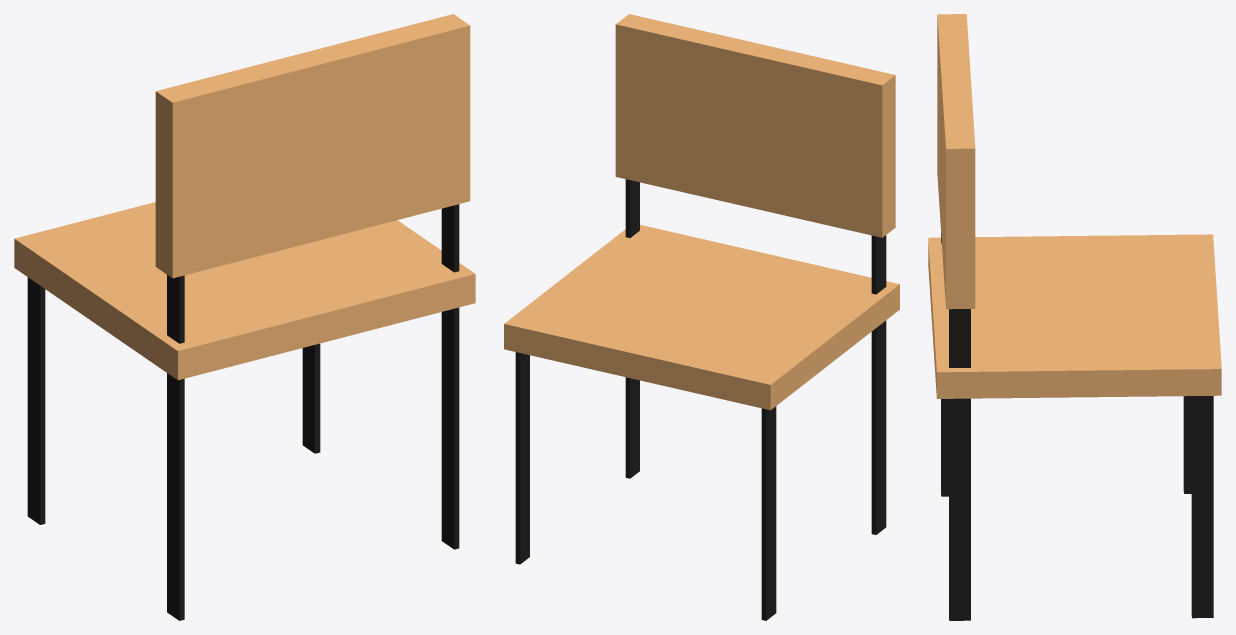
Rendered from chair.glb.
3 views of the same model, side by side, from view 1: azimuth 30°, elevation 25°; view 2: azimuth 150°, elevation 25°; view 3: azimuth 270°, elevation 25° (orthographic). The views are drawn at different scales.
Parts seen in each view (by area): view 1: Cube.210; view 2: Cube.210; view 3: Cube.210.
Boxes of the visible parts, left/top/right/bottom form: Cube.210: left=14, top=14, right=475, bottom=620; Cube.210: left=504, top=14, right=899, bottom=620; Cube.210: left=928, top=14, right=1221, bottom=620.
Size of the model in its own units: 0.7406 by 1.19 by 0.6662.
